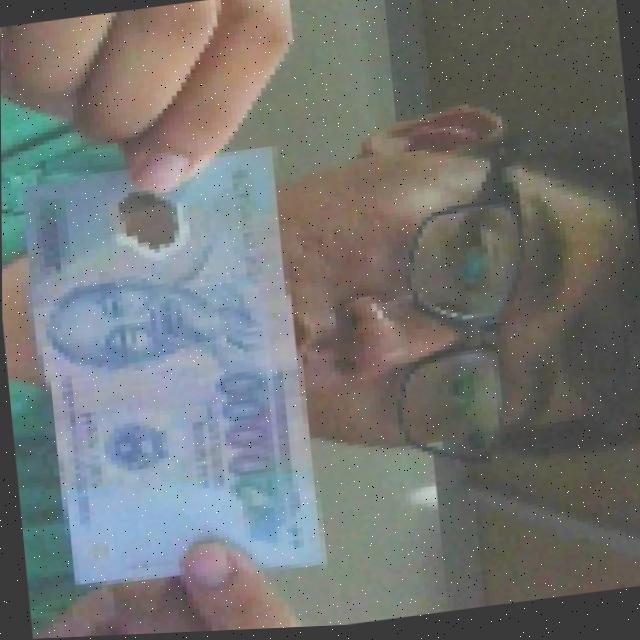20 000 VND: (7, 133, 331, 605)
